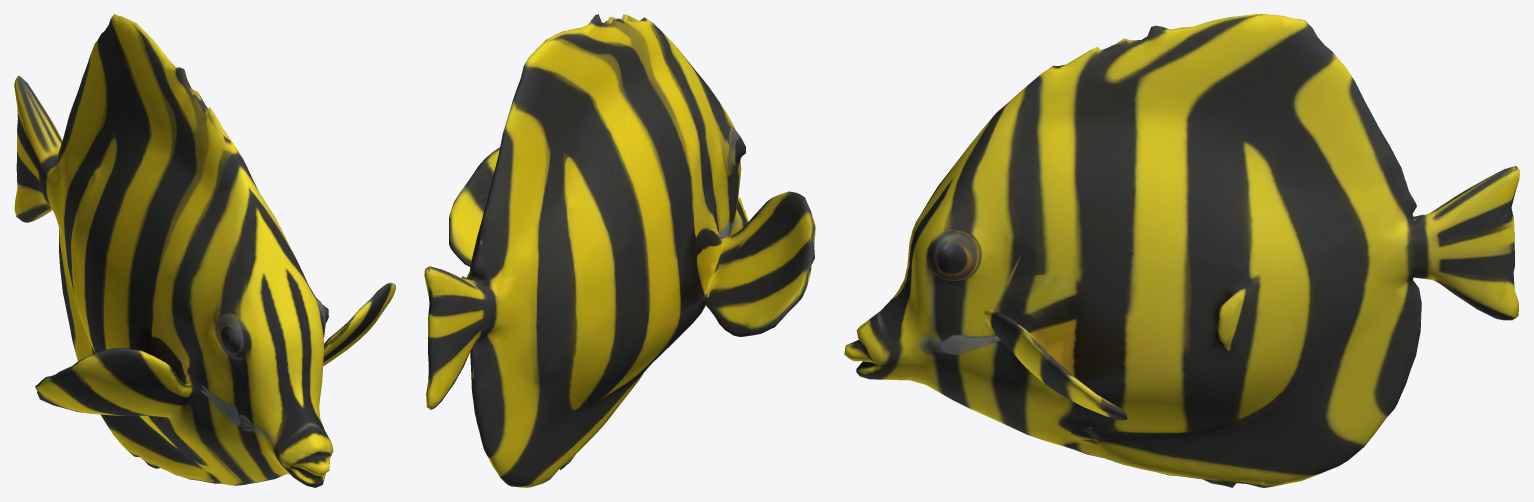
File: TropicalAngelfish.glb
The picture shows the model from 3 angles, left to right: view 1: azimuth 30°, elevation 25°; view 2: azimuth 150°, elevation 25°; view 3: azimuth 270°, elevation 25°; orthographic projection. The views are drawn at different scales.
Bounding box in the file's own units: 1.3 × 1.55 × 2.
Materials: 1 (1 with a texture image).
